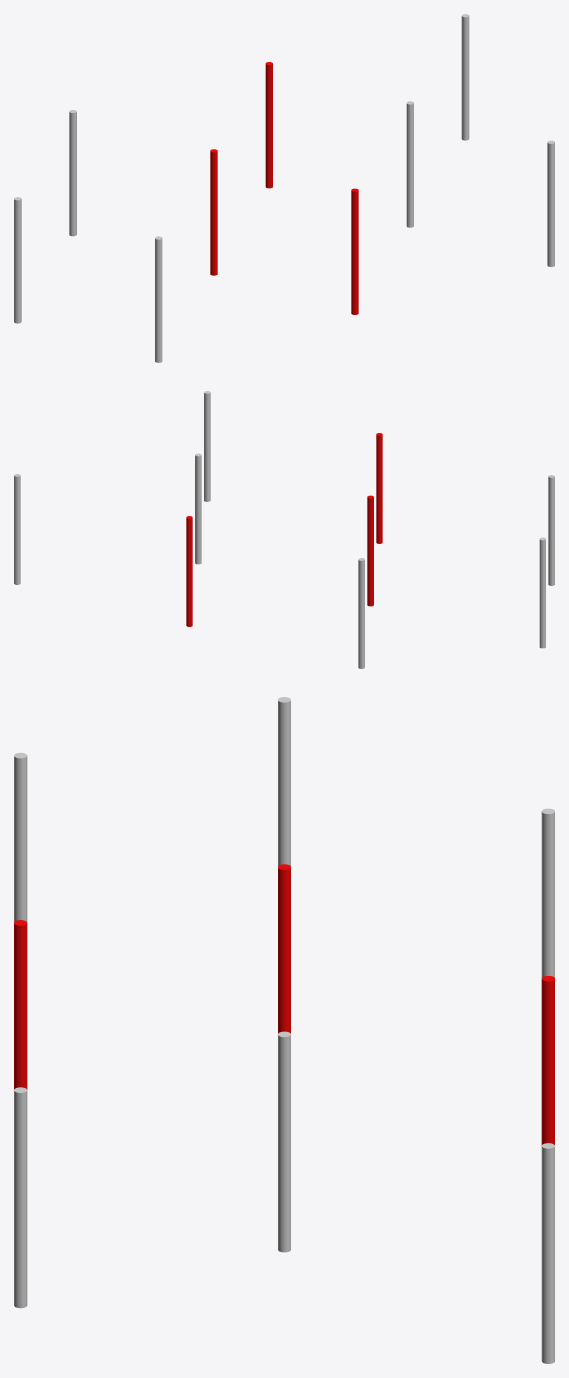
The picture shows the model from 3 angles, top to bottom: view 1: azimuth 30°, elevation 25°; view 2: azimuth 150°, elevation 25°; view 3: azimuth 270°, elevation 25°; orthographic projection. The views are drawn at different scales.
Visible parts, largest first — view 1: Cylinder.008, Cylinder.004, Cylinder.005, Cylinder.003, Cylinder, Cylinder.007, Cylinder.006, Cylinder.001, Cylinder.002; view 2: Cylinder.005, Cylinder.004, Cylinder.003, Cylinder.008, Cylinder.006, Cylinder.002, Cylinder, Cylinder.007, Cylinder.001; view 3: Cylinder.002, Cylinder.008, Cylinder.005, Cylinder.001, Cylinder, Cylinder.006, Cylinder.007, Cylinder.004, Cylinder.003.
Boxes of the visible parts, box(x1,y1,x2,y2) form: Cylinder.008: box(461, 14, 469, 140); Cylinder.004: box(210, 149, 217, 275); Cylinder.005: box(406, 101, 413, 227); Cylinder.003: box(14, 197, 21, 323); Cylinder: box(155, 236, 162, 362); Cylinder.007: box(265, 62, 272, 188); Cylinder.006: box(69, 110, 76, 236); Cylinder.001: box(351, 188, 358, 314); Cylinder.002: box(547, 140, 554, 266); Cylinder.005: box(195, 453, 201, 564); Cylinder.004: box(367, 495, 373, 606); Cylinder.003: box(539, 537, 545, 648); Cylinder.008: box(14, 474, 20, 584); Cylinder.006: box(358, 558, 364, 668); Cylinder.002: box(204, 391, 210, 501); Cylinder: box(548, 475, 554, 585); Cylinder.007: box(186, 516, 192, 626); Cylinder.001: box(376, 433, 382, 543); Cylinder.002: box(14, 1087, 27, 1308); Cylinder.008: box(541, 1143, 554, 1363); Cylinder.005: box(278, 1031, 290, 1252); Cylinder.001: box(14, 920, 27, 1089); Cylinder: box(14, 752, 27, 922); Cylinder.006: box(541, 808, 554, 978); Cylinder.007: box(541, 976, 554, 1145); Cylinder.004: box(278, 864, 290, 1033); Cylinder.003: box(278, 697, 290, 865).
Bounding box in the file's own units: 4.05 × 2.05 × 0.9.
